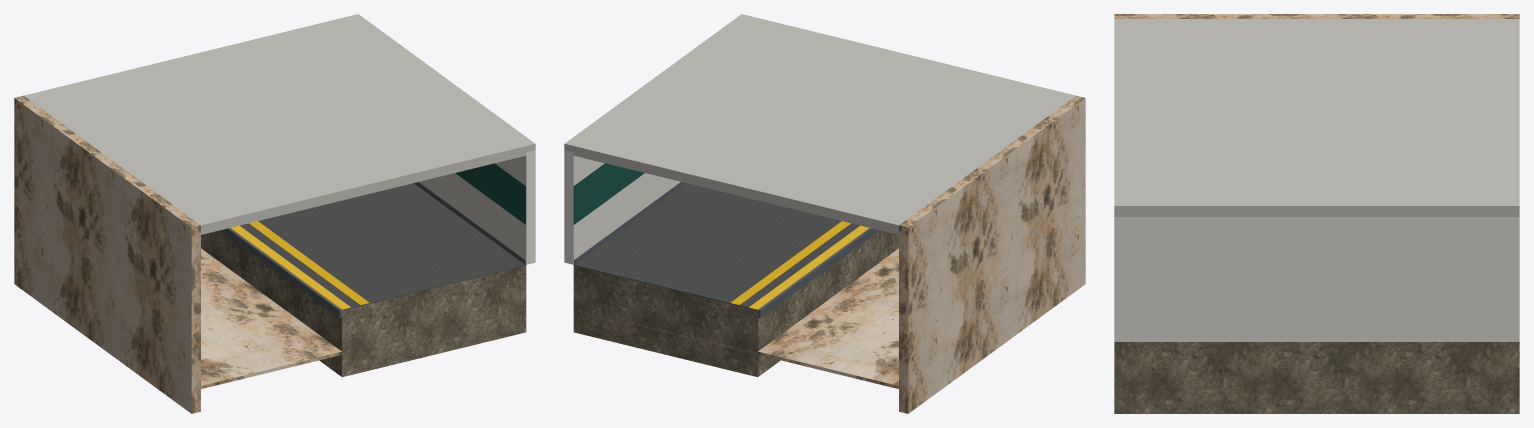
File: platform-underground.glb
The picture shows the model from 3 angles, left to right: view 1: azimuth 30°, elevation 25°; view 2: azimuth 150°, elevation 25°; view 3: azimuth 270°, elevation 25°; orthographic projection. The views are drawn at different scales.
Parts seen in each view (by area): view 1: PlatformUnderground; view 2: PlatformUnderground; view 3: PlatformUnderground.
Boxes of the visible parts, x1,y1,x2,y2 form: PlatformUnderground: (14, 14, 535, 413); PlatformUnderground: (564, 14, 1085, 413); PlatformUnderground: (1114, 14, 1519, 413).
Size of the model in its own units: 11.2 by 5.8 by 10.
10 materials, 3 textured.
